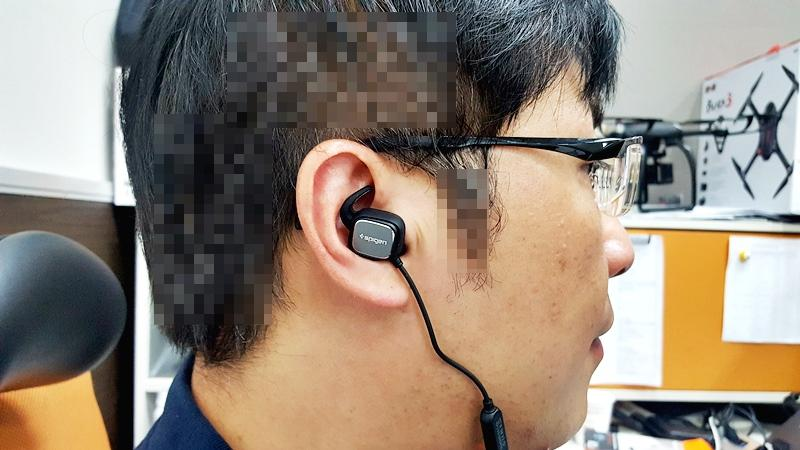earphone: (339, 199, 409, 266)
